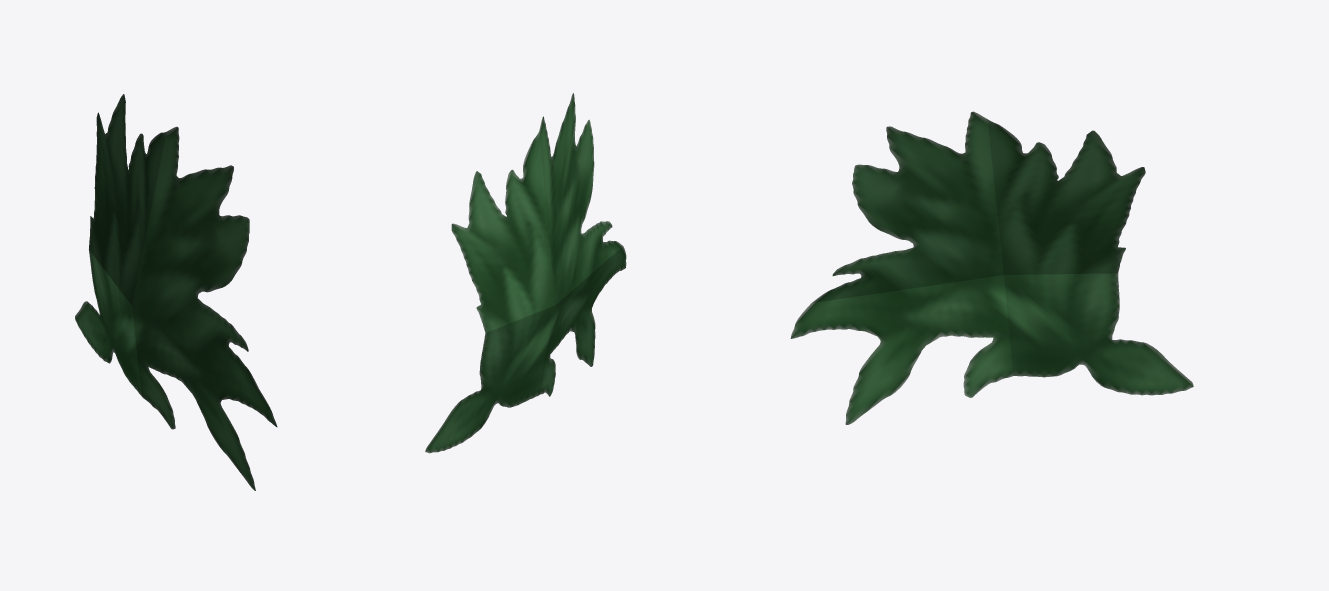
File: F_KrzaczekZielony2.fbx
3 renders of one model, left to right at view 1: azimuth 30°, elevation 25°; view 2: azimuth 150°, elevation 25°; view 3: azimuth 270°, elevation 25°, orthographic. The views are drawn at different scales.
Parts seen in each view (by area): view 1: F_KrzaczekZielony2; view 2: F_KrzaczekZielony2; view 3: F_KrzaczekZielony2.
Part boxes in pixels (box(x1,y1,x2,y2)): F_KrzaczekZielony2: box(75, 94, 277, 490); F_KrzaczekZielony2: box(425, 93, 626, 453); F_KrzaczekZielony2: box(790, 111, 1193, 424).
Bounding box in the file's own units: 21.91 × 282 × 282.
1 material, 1 textured.
